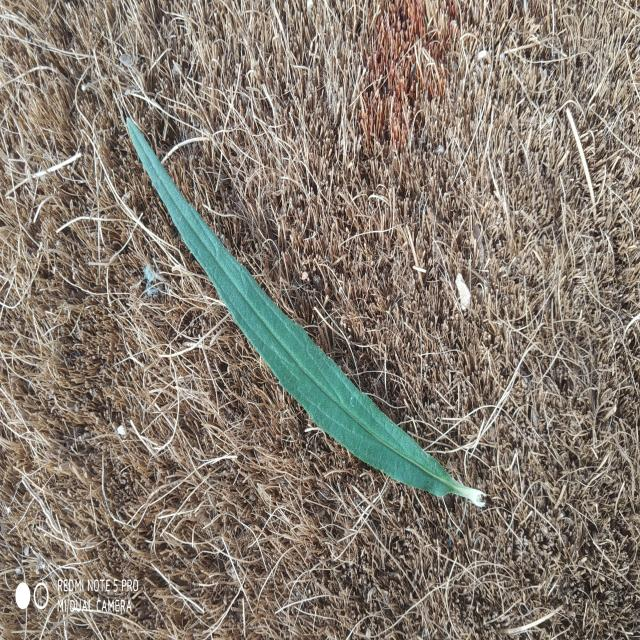thambe: (126, 118, 484, 507)
